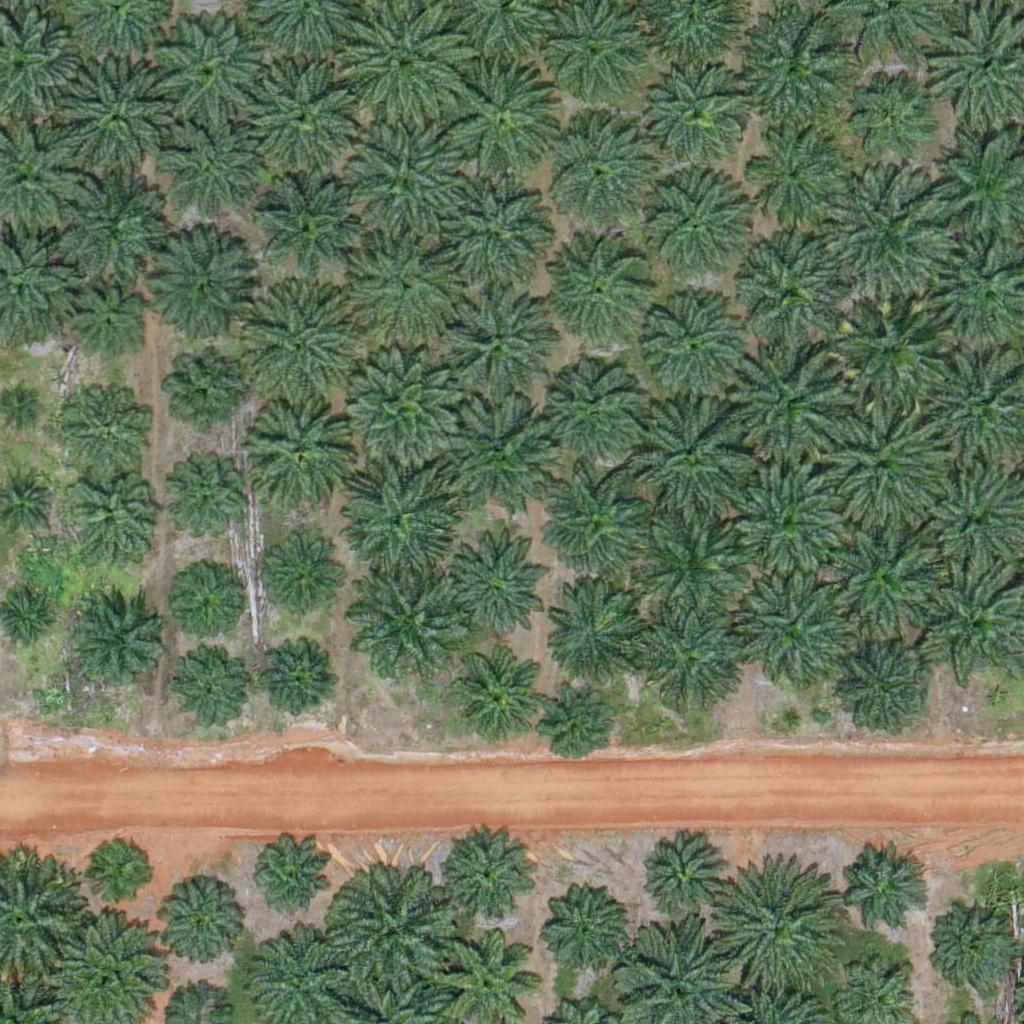Kelapa_Sawit: (714, 870, 839, 996), (328, 869, 453, 995), (826, 406, 951, 532), (825, 282, 950, 408), (825, 168, 950, 294), (728, 241, 853, 367), (635, 608, 748, 721), (637, 505, 750, 618), (641, 393, 754, 506), (540, 114, 653, 227), (539, 459, 652, 572), (449, 64, 562, 177), (439, 169, 552, 282), (436, 287, 549, 400), (349, 561, 462, 674), (239, 393, 352, 506), (142, 233, 255, 346), (60, 61, 173, 174), (46, 162, 159, 275), (157, 13, 270, 126), (730, 5, 842, 119), (828, 530, 940, 643), (735, 346, 847, 459), (734, 461, 846, 574), (737, 576, 849, 689), (642, 277, 754, 390), (638, 164, 750, 277), (445, 391, 557, 504), (441, 537, 553, 650), (348, 118, 460, 231), (346, 227, 458, 340), (344, 346, 456, 459), (340, 461, 452, 574), (242, 283, 354, 396), (246, 56, 358, 169), (439, 827, 539, 928), (842, 631, 942, 732), (553, 233, 653, 334), (544, 357, 644, 458), (545, 579, 645, 680), (256, 180, 356, 281), (65, 592, 165, 693), (744, 122, 844, 222), (647, 63, 747, 163), (155, 881, 243, 970), (449, 649, 537, 737), (60, 383, 148, 471), (68, 477, 156, 565), (247, 835, 334, 923), (254, 530, 341, 618), (165, 127, 252, 215), (168, 353, 243, 429), (839, 857, 914, 933), (646, 844, 721, 920), (547, 892, 622, 968), (851, 72, 926, 148), (262, 646, 337, 722), (170, 468, 245, 544), (173, 650, 248, 726), (66, 286, 141, 362), (934, 911, 1009, 986), (170, 573, 233, 636), (91, 838, 154, 901), (544, 690, 607, 753), (5, 387, 43, 425)
